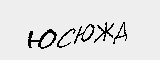К: (95, 23, 116, 44)
Л: (25, 22, 48, 42)
С: (80, 21, 98, 41)
Т: (114, 24, 137, 44)
Я: (62, 21, 80, 41)
Ұ: (46, 21, 64, 42)
